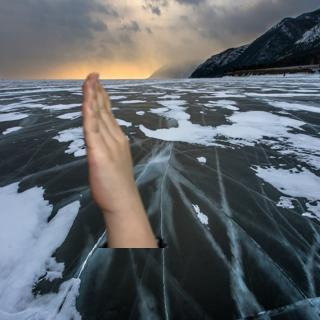RIGHT: (76, 69, 140, 215)
